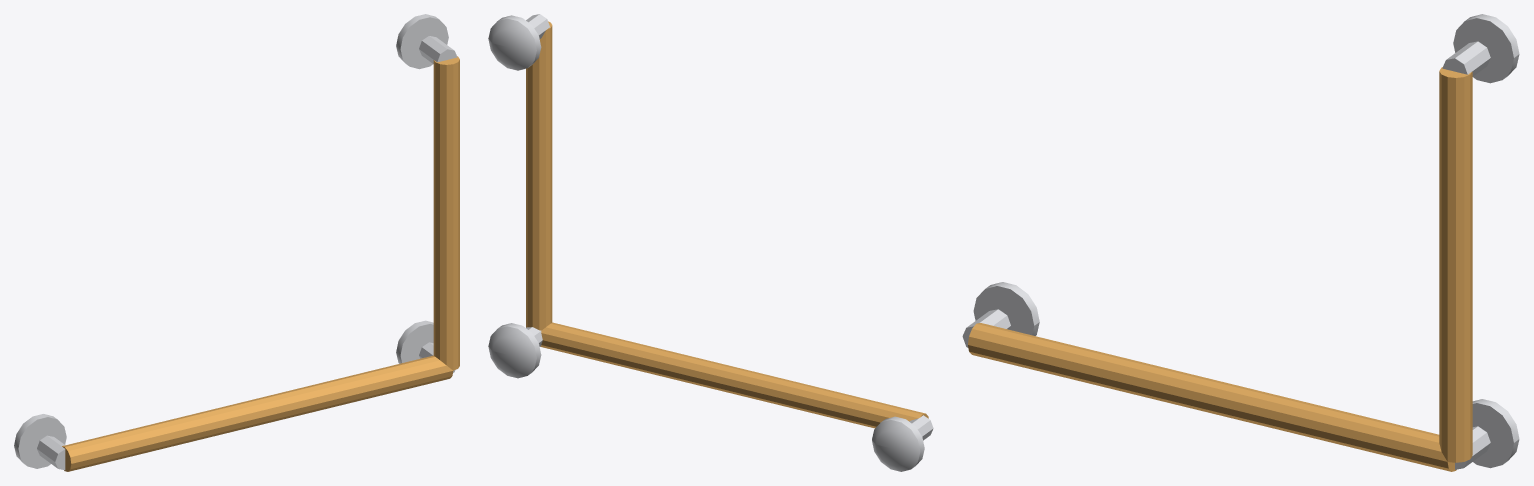
The model's file is office-lobby-and-facilities-grab-rail-set-bafeb460__26189.glb.
3 views of the same model, side by side, from view 1: azimuth 30°, elevation 25°; view 2: azimuth 150°, elevation 25°; view 3: azimuth 330°, elevation 25° (orthographic). The views are drawn at different scales.
Visible parts, largest first — view 1: grab-rail-set; view 2: grab-rail-set; view 3: grab-rail-set.
Boxes of the visible parts, left/top/right/bottom form: grab-rail-set: left=14, top=14, right=459, bottom=471; grab-rail-set: left=488, top=14, right=933, bottom=471; grab-rail-set: left=962, top=14, right=1519, bottom=471.
Bounding box in the file's own units: 0.676 × 0.5341 × 0.1.
